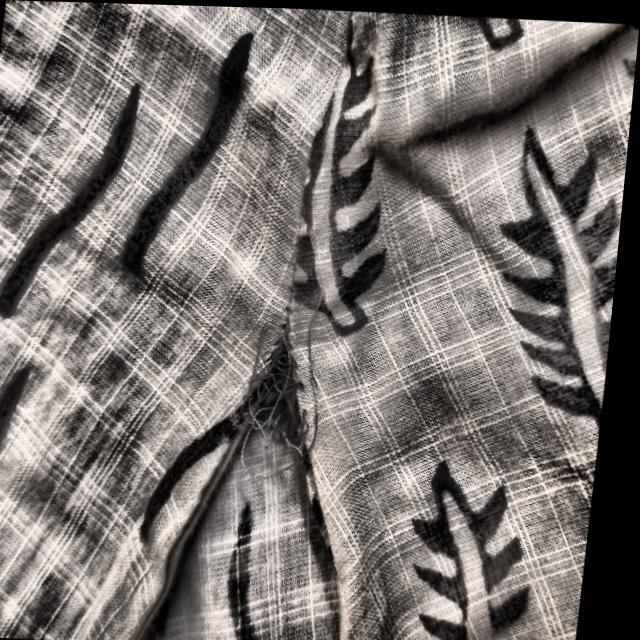Stitch: (212, 270, 351, 498)
